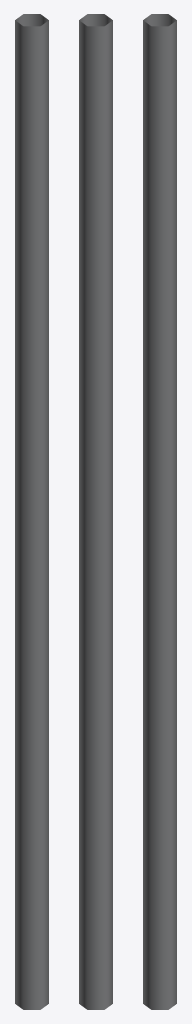
3 views of the same model, side by side, from view 1: azimuth 90°, elevation 25°; view 2: azimuth 150°, elevation 25°; view 3: azimuth 270°, elevation 25° (orthographic).
Bounding box in the file's own units: 0.0281 × 1.04 × 0.0324.
